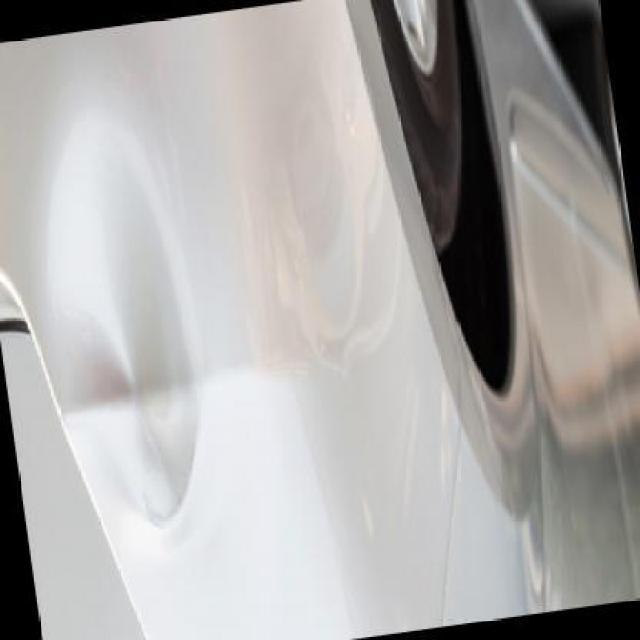dent: (37, 114, 215, 543)
